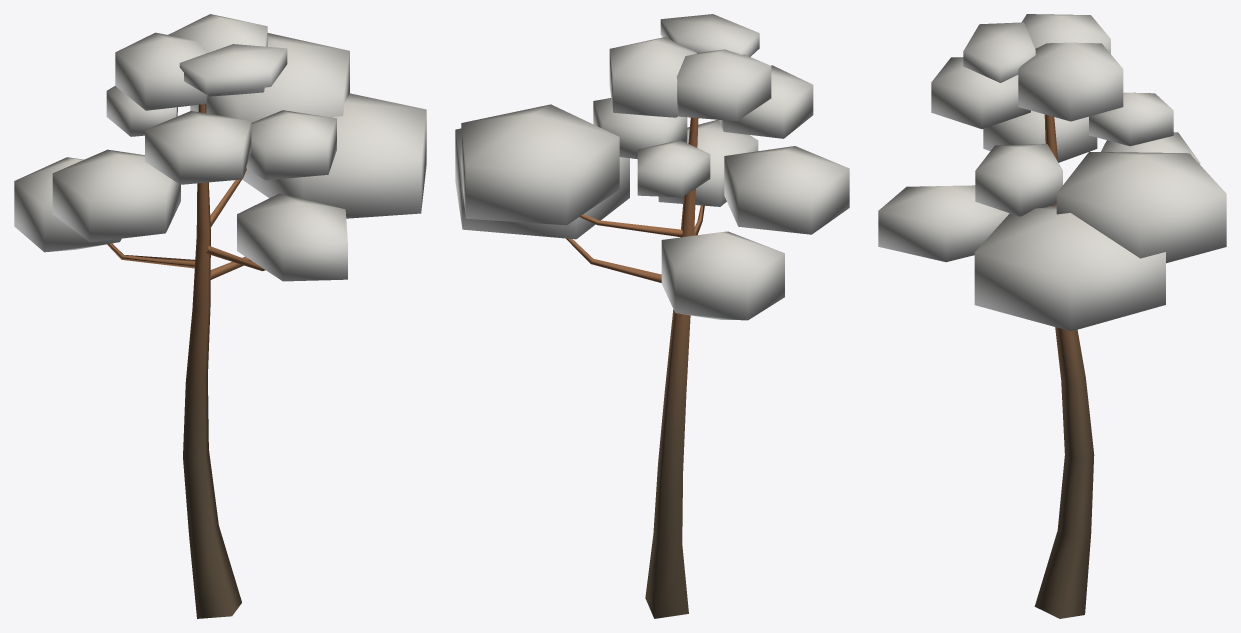
The picture shows the model from 3 angles, left to right: view 1: azimuth 30°, elevation 25°; view 2: azimuth 150°, elevation 25°; view 3: azimuth 270°, elevation 25°; orthographic projection. The views are drawn at different scales.
Parts seen in each view (by area): view 1: crown, trunk; view 2: crown, trunk; view 3: crown, trunk.
Boxes of the visible parts, x1,y1,x2,y2 form: crown: (14,14,426,281); trunk: (107,104,265,618); crown: (455,14,849,320); trunk: (566,117,704,618); crown: (878,14,1226,331); trunk: (1034,114,1094,618).
Size of the model in its own units: 16.35 by 24.8 by 13.6.
